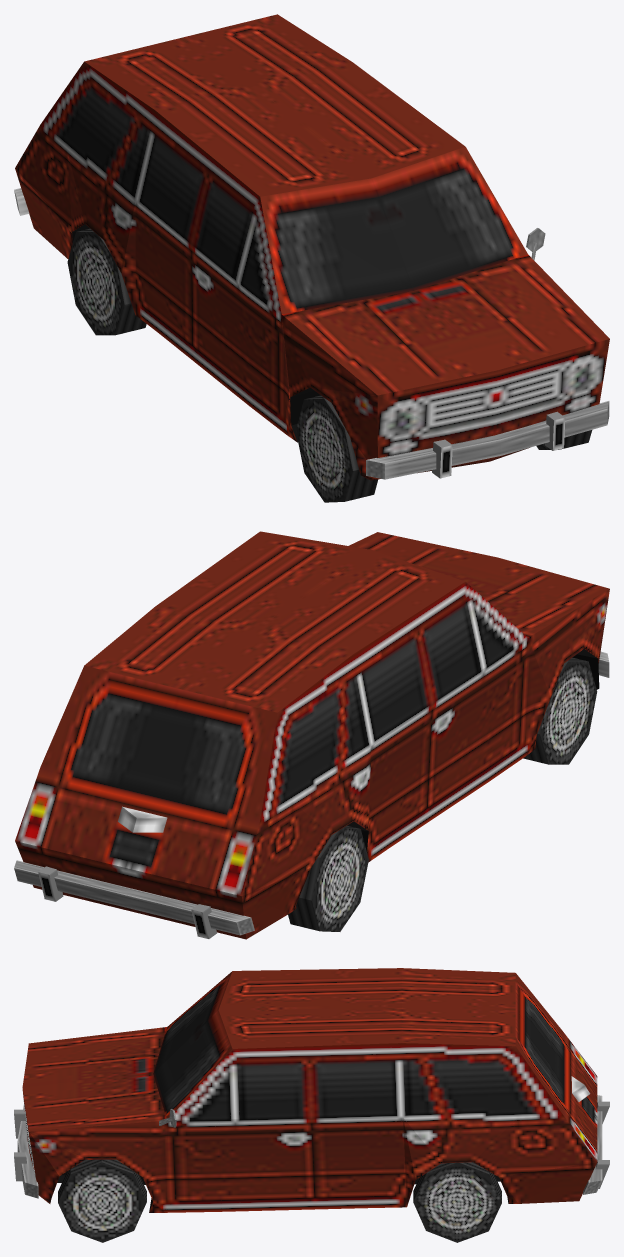
The model's file is Auto2rojo.fbx.
The picture shows the model from 3 angles, top to bottom: view 1: azimuth 30°, elevation 25°; view 2: azimuth 150°, elevation 25°; view 3: azimuth 270°, elevation 25°; orthographic projection. The views are drawn at different scales.
Visible parts, largest first — view 1: Car; view 2: Car; view 3: Car.
Part boxes in pixels (x1=…): Car: x1=14, y1=14, x2=609, y2=502; Car: x1=14, y1=531, x2=609, y2=939; Car: x1=14, y1=968, x2=609, y2=1242.
Bounding box in the file's own units: 256 × 217 × 615.
